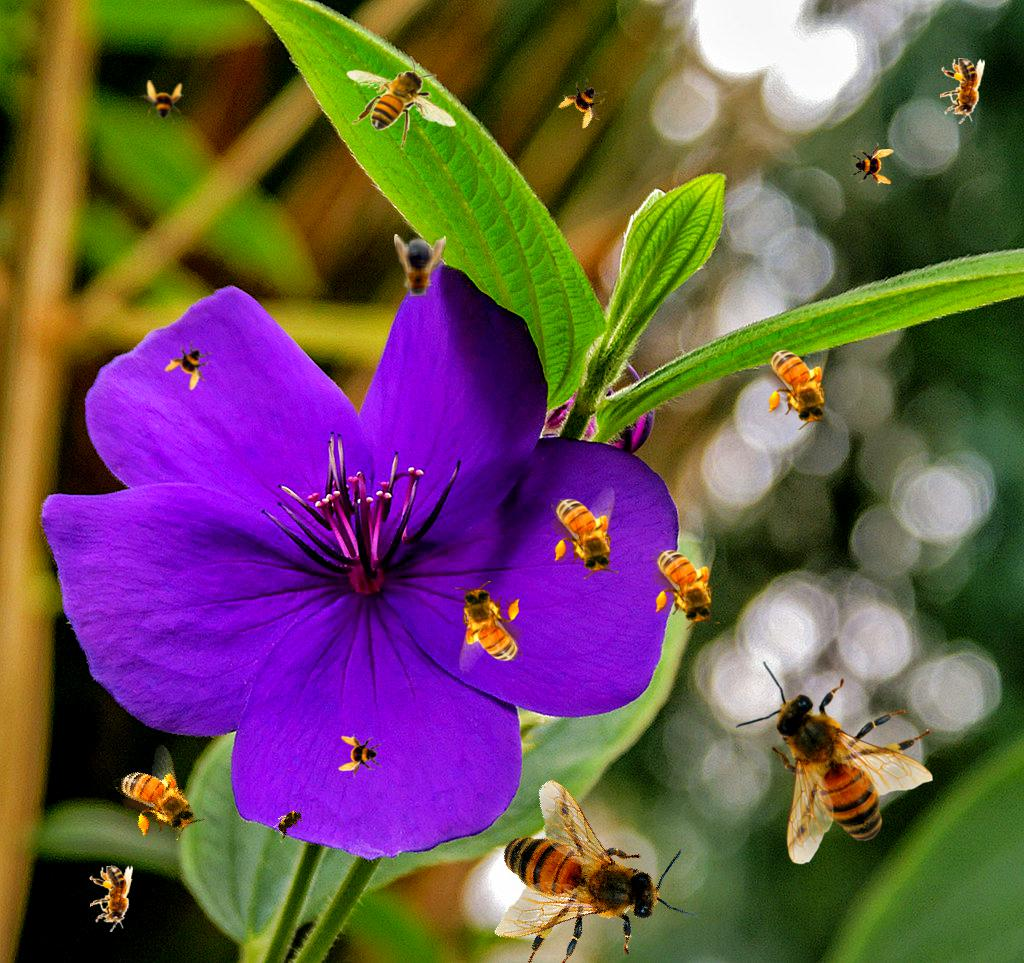Bee: (440, 741, 725, 963), (734, 661, 933, 865), (107, 740, 209, 855), (346, 56, 457, 150), (455, 581, 523, 674), (551, 486, 619, 579), (765, 337, 833, 430), (652, 537, 720, 630), (160, 334, 222, 396), (554, 72, 616, 134), (394, 234, 446, 302), (87, 864, 137, 933), (940, 58, 985, 124), (267, 800, 313, 844), (850, 142, 894, 186), (338, 734, 382, 778), (140, 80, 184, 124)
